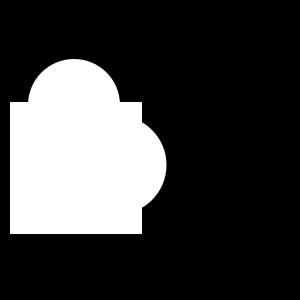circle: (10, 102, 142, 234)
rectangle: (68, 116, 167, 215), (28, 59, 120, 151)
